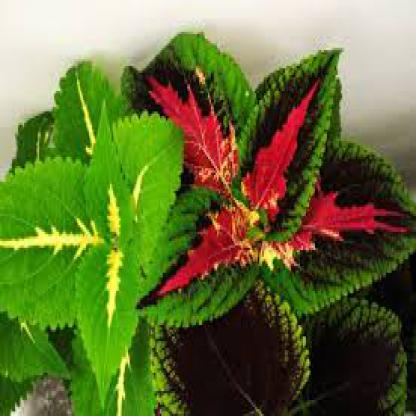Bunga Coleus: (39, 85, 373, 365)
